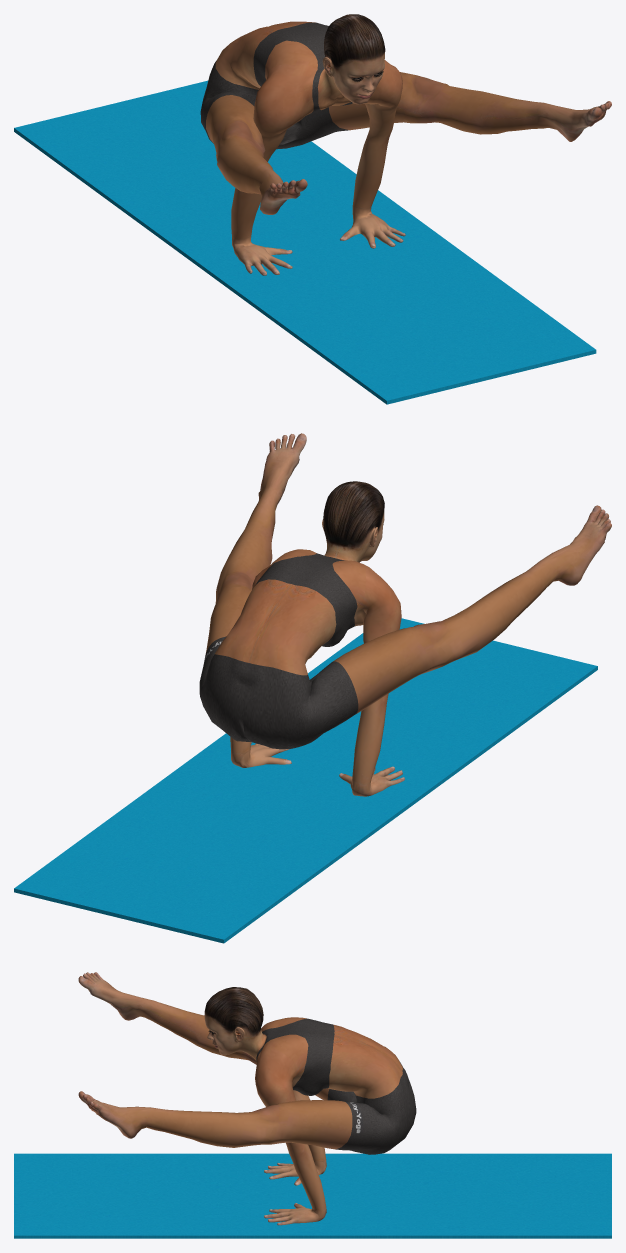
The model's file is tittibhasana.glb.
3 views of the same model, one above another, from view 1: azimuth 30°, elevation 25°; view 2: azimuth 150°, elevation 25°; view 3: azimuth 270°, elevation 25° (orthographic). The views are drawn at different scales.
Visible parts, largest first — view 1: Mat-one-piece_jpg-material, Lily_Texture2017-07-24Yellower_jpg-material; view 2: Mat-one-piece_jpg-material, Lily_Texture2017-07-24Yellower_jpg-material; view 3: Mat-one-piece_jpg-material, Lily_Texture2017-07-24Yellower_jpg-material.
Boxes of the visible parts, bbox=[...] form: Mat-one-piece_jpg-material: bbox=[14, 80, 596, 404]; Lily_Texture2017-07-24Yellower_jpg-material: bbox=[200, 14, 611, 275]; Mat-one-piece_jpg-material: bbox=[14, 618, 597, 943]; Lily_Texture2017-07-24Yellower_jpg-material: bbox=[199, 433, 611, 796]; Mat-one-piece_jpg-material: bbox=[14, 1153, 611, 1238]; Lily_Texture2017-07-24Yellower_jpg-material: bbox=[78, 972, 416, 1225].
Size of the model in its own units: 3.25 by 2.37 by 6.17.
3 materials, 2 textured.
